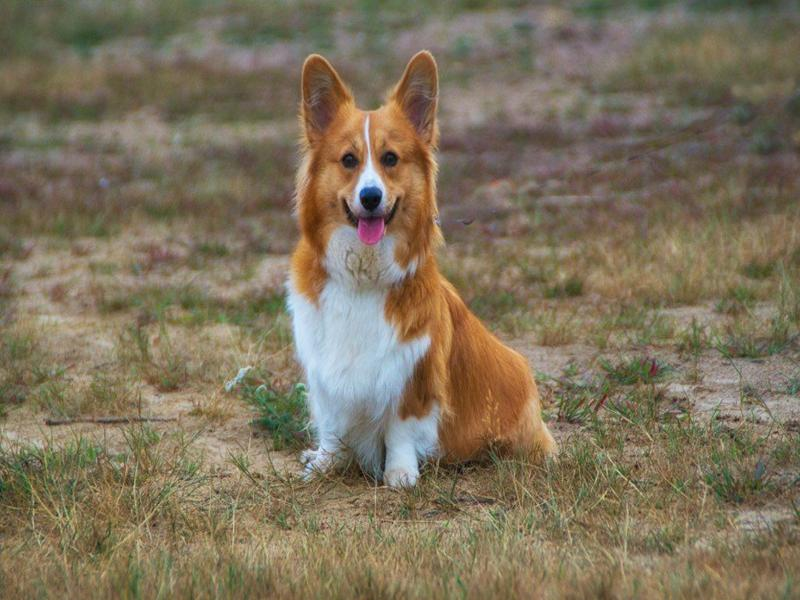corgi: (300, 48, 445, 246)
